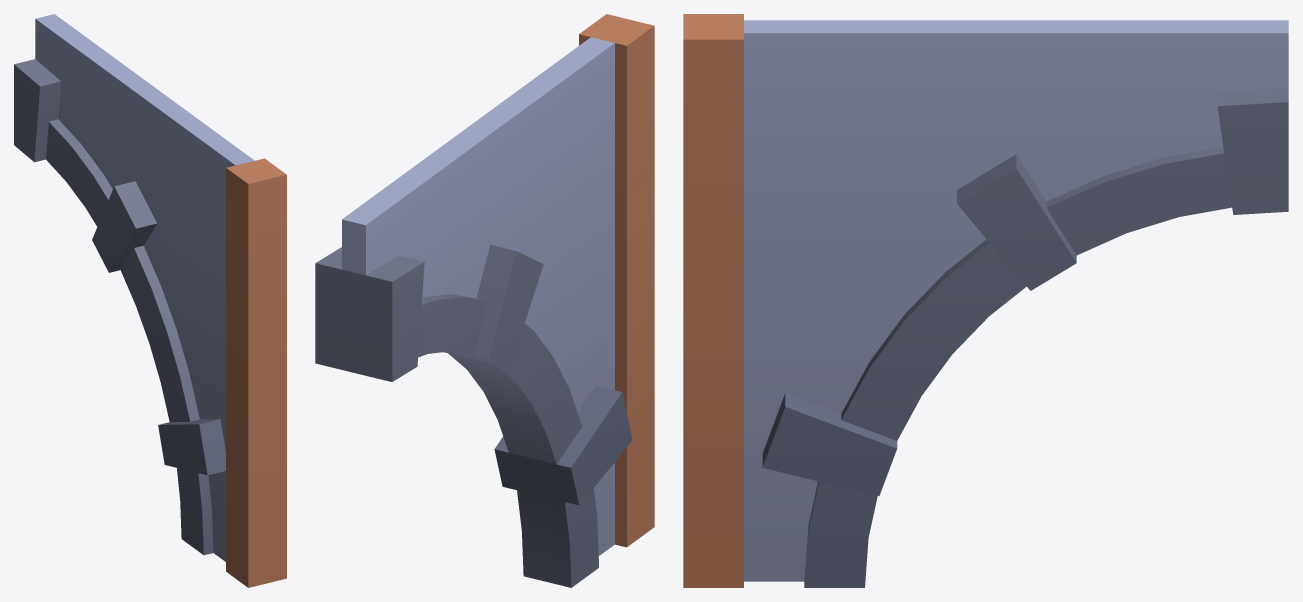
The model's file is kenney-fantasy-town-wall-arch-top-detail.glb.
3 renders of one model, left to right at view 1: azimuth 30°, elevation 25°; view 2: azimuth 150°, elevation 25°; view 3: azimuth 270°, elevation 25°, orthographic. The views are drawn at different scales.
Visible parts, largest first — view 1: wall-arch-top-detail; view 2: wall-arch-top-detail; view 3: wall-arch-top-detail.
Part boxes in pixels (<box>): wall-arch-top-detail: <box>14,14,286,587</box>; wall-arch-top-detail: <box>315,14,654,587</box>; wall-arch-top-detail: <box>683,14,1288,587</box>.
Size of the model in its own units: 0.16 by 1 by 1.
Materials: 1 (1 with a texture image).
